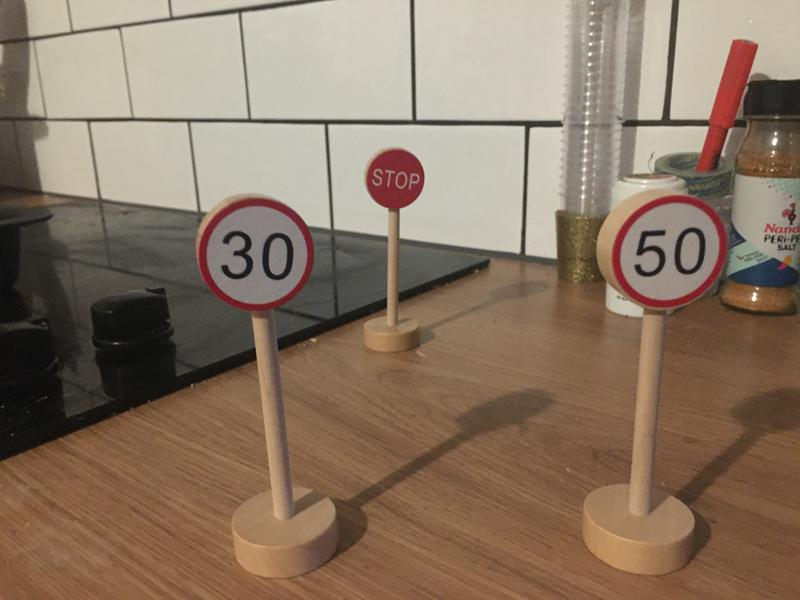Traffic_Sign_30: (199, 195, 313, 309)
Traffic_Sign_50: (612, 197, 727, 310)
Traffic_Sign_Stop: (367, 147, 425, 206)
